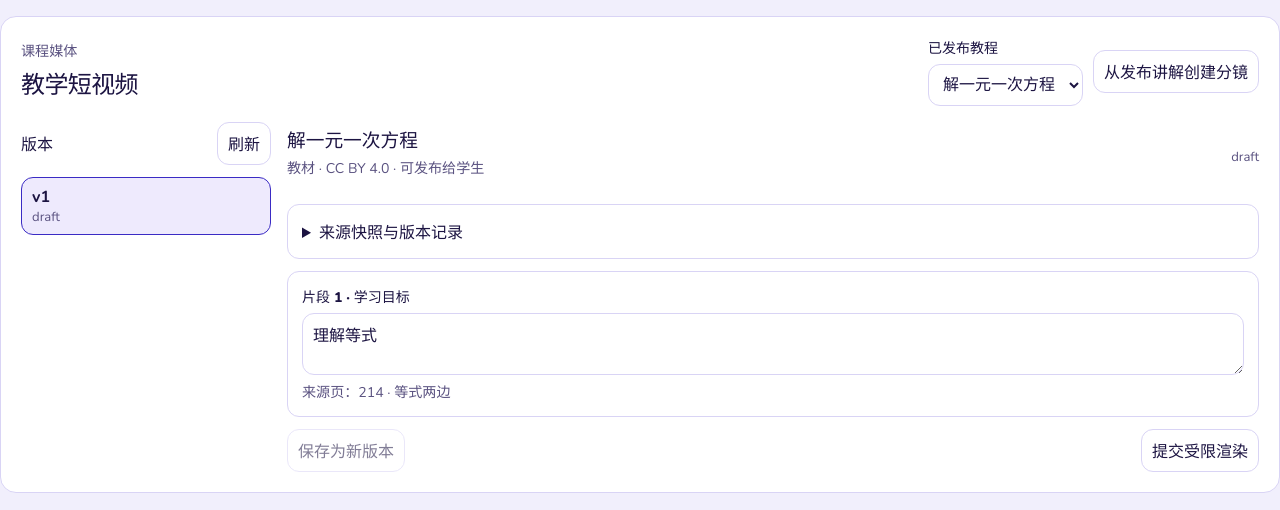
MediaStudioPanel teacher workflow › disables saving a revision after the teacher restores the original narration
Expected: the button "保存为新版本" is disabled, top-left (287, 429), bottom-right (405, 472)
// When the teacher edits the narration and then restores its exact original text
Step 1. Replace the text in the text box labelled "片段 1 · 学习目标" with "理解等式并复核" → (773, 344), box top-left (302, 313), bottom-right (1244, 375)
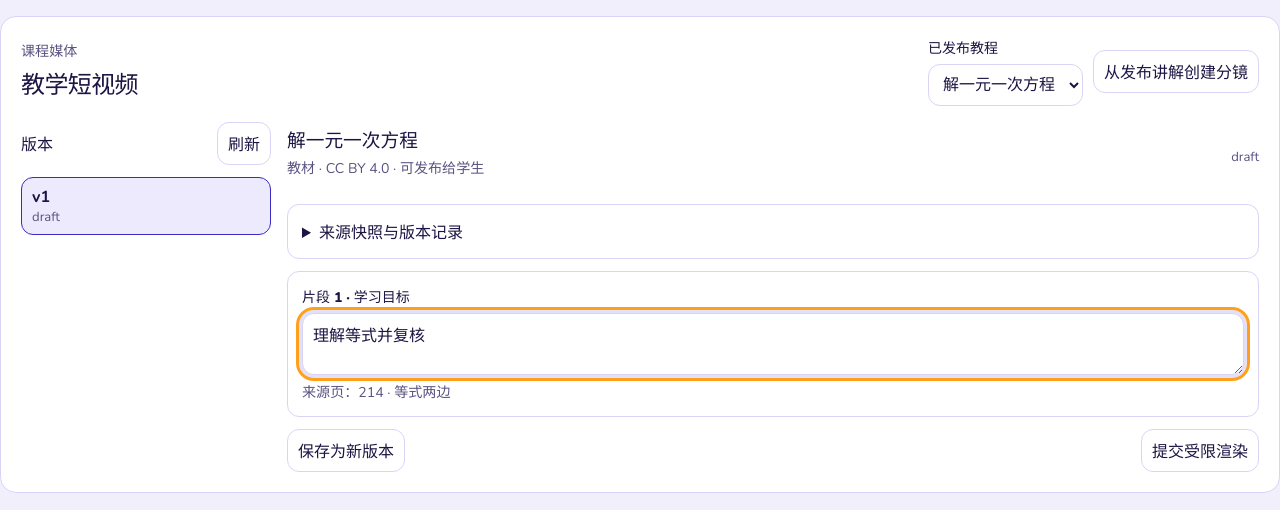
Expected: the button "保存为新版本" is enabled, top-left (287, 429), bottom-right (405, 472)
Step 2. Replace the text in the text box labelled "片段 1 · 学习目标" with "理解等式" → (773, 344), box top-left (302, 313), bottom-right (1244, 375)
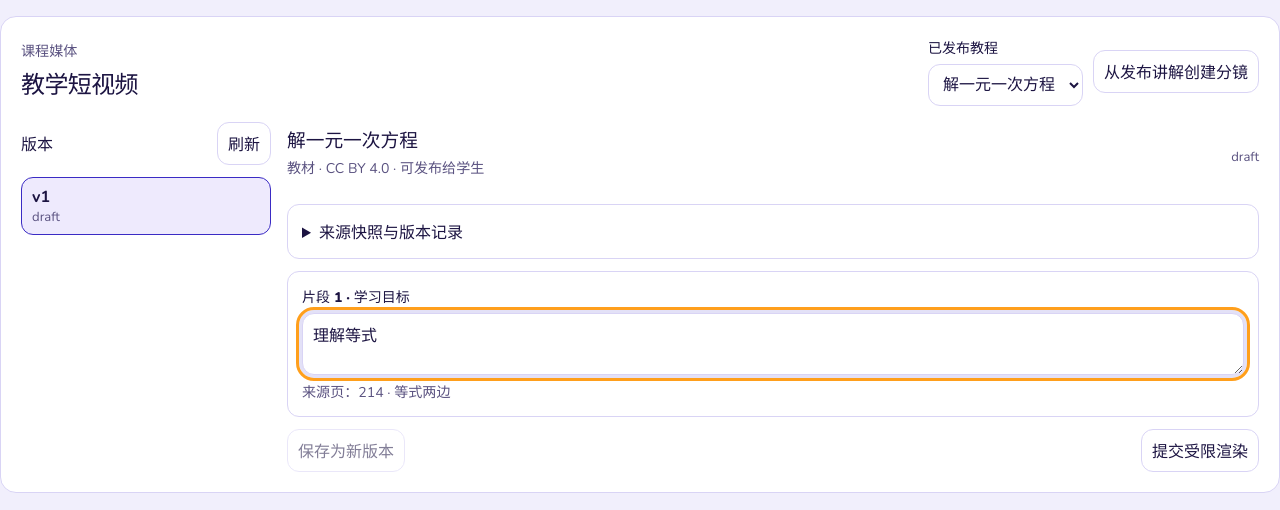
Expected: the button "保存为新版本" is disabled, top-left (287, 429), bottom-right (405, 472)
